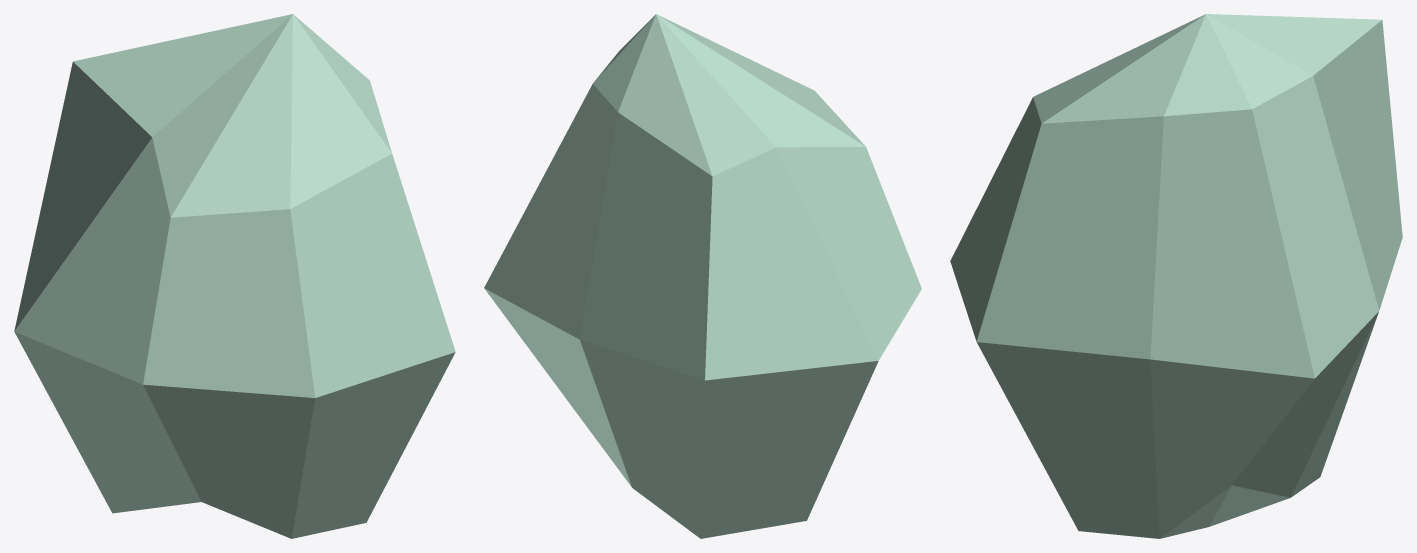
The model's file is Rock2.FBX.
The picture shows the model from 3 angles, left to right: view 1: azimuth 30°, elevation 25°; view 2: azimuth 150°, elevation 25°; view 3: azimuth 270°, elevation 25°; orthographic projection. The views are drawn at different scales.
Visible parts, largest first — view 1: Sphere002; view 2: Sphere002; view 3: Sphere002.
Part boxes in pixels (bbox=[...]): Sphere002: bbox=[14, 14, 455, 538]; Sphere002: bbox=[484, 14, 921, 538]; Sphere002: bbox=[950, 14, 1402, 538].
Bounding box in the file's own units: 43.15 × 51.6 × 41.07.
